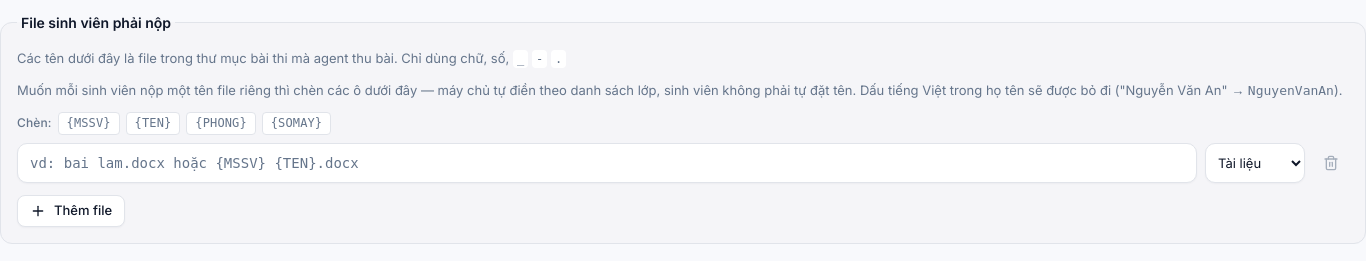
Scenario: RequiredFilenamesInput — deliverableType/language (3d2, khai qua form) › chọn "Mã nguồn" thì hiện thêm ô chọn loại
Select "Mã nguồn" in the dropdown named "loại bài nộp số 1" at (1255, 163), box left=1205, top=143, right=1305, bottom=183
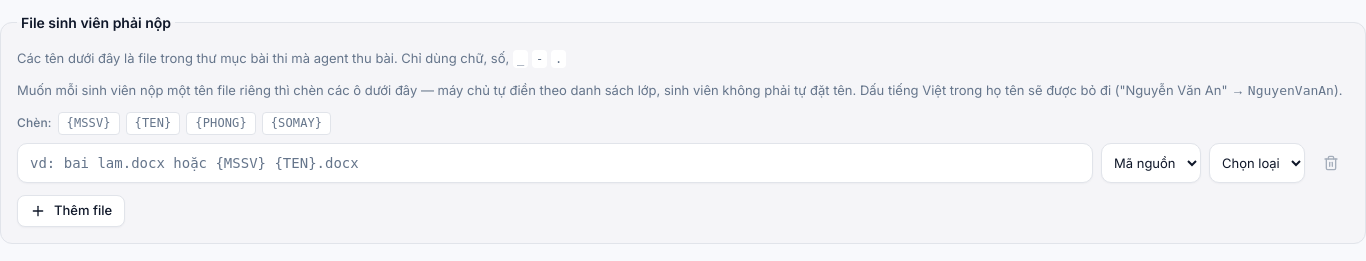
Expected: the 2nd dropdown named "loại mã nguồn số 1" is shown, left=1209, top=143, right=1305, bottom=183
